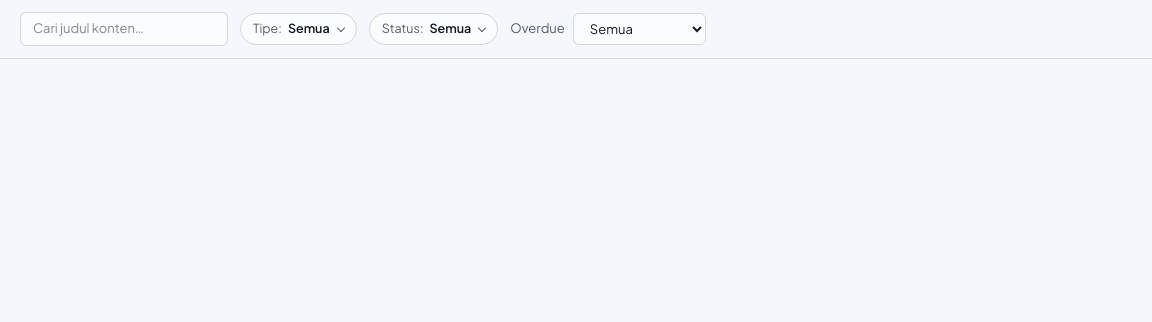
Test: CreatorContentFilters › offers all six lifecycle statuses, worded as every admin view words them
Click the button "Status: Semua".
click(434, 29)  # box [369,13,498,45]
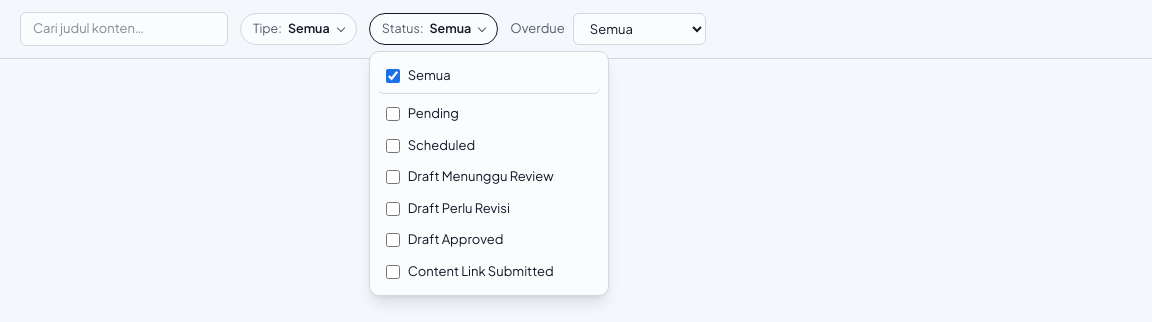
Expected: the checkbox labelled "Pending" is shown, [386,107,400,121]
Expected: the checkbox labelled "Scheduled" is shown, [386,138,400,152]
Expected: the checkbox labelled "Draft Menunggu Review" is shown, [386,170,400,184]
